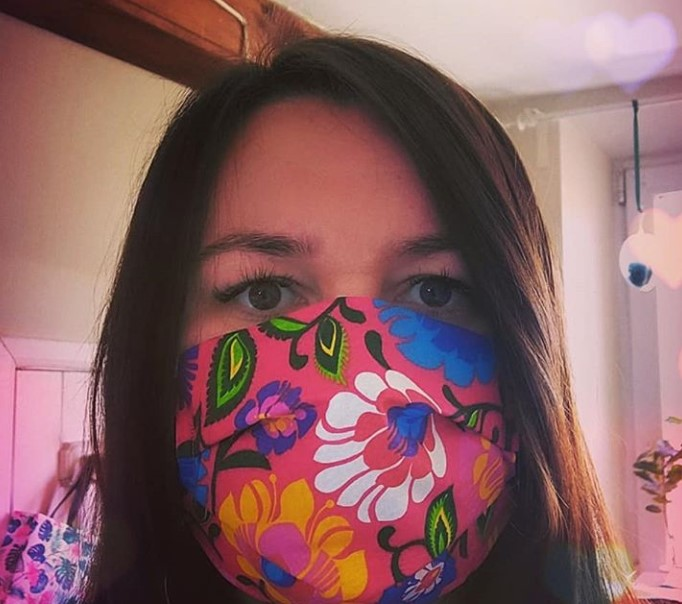face_with_mask: (146, 47, 560, 601)
